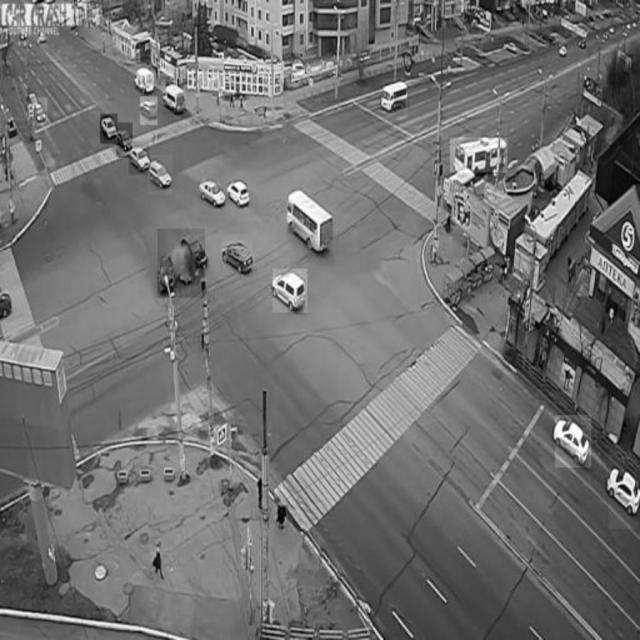accident: (158, 229, 205, 297)
vehicle: (285, 188, 335, 255), (609, 452, 637, 529), (450, 137, 507, 173), (555, 416, 591, 468), (273, 269, 308, 313), (222, 234, 252, 275), (200, 173, 225, 215), (148, 155, 173, 195), (382, 79, 407, 114), (129, 141, 149, 175), (165, 77, 183, 114), (228, 175, 250, 205), (135, 64, 155, 94), (117, 123, 133, 158), (101, 114, 118, 144), (140, 97, 157, 125), (32, 98, 48, 125)
